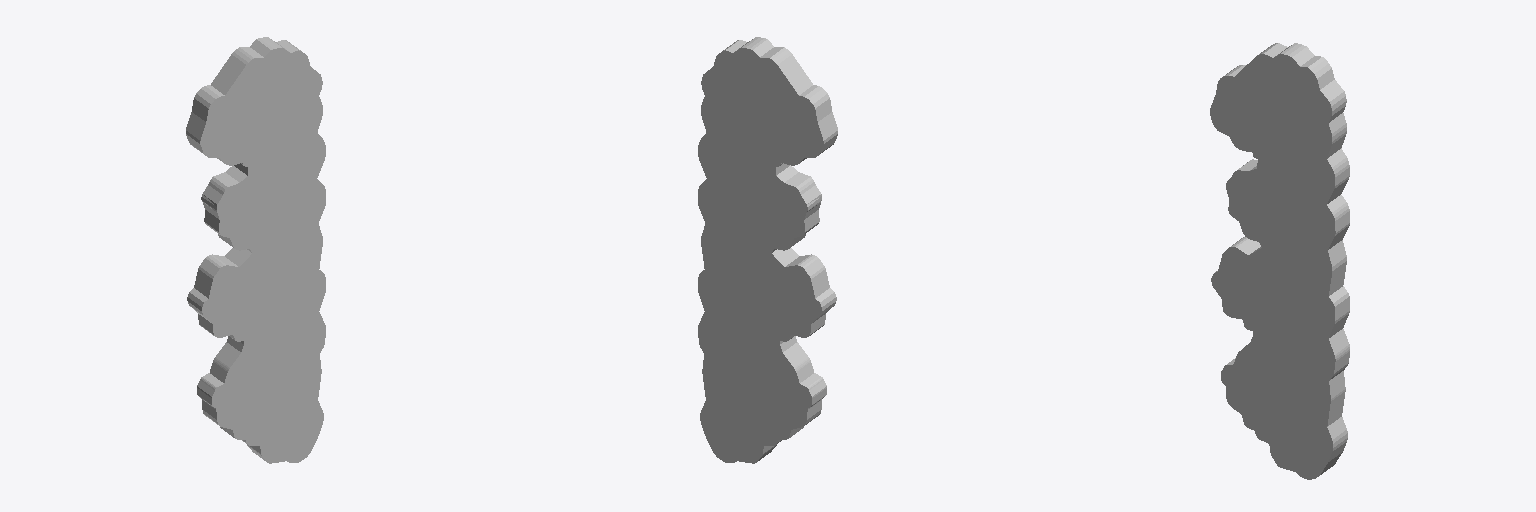
Rendered from SOG_Cloud_Port.obj.
The picture shows the model from 3 angles: view 1: azimuth 30°, elevation 25°; view 2: azimuth 150°, elevation 25°; view 3: azimuth 330°, elevation 25°; orthographic projection.
Visible parts, largest first — view 1: Object; view 2: Object; view 3: Object.
Boxes of the visible parts, x1,y1,x2,y2 form: Object: [186, 37, 325, 463]; Object: [698, 37, 837, 463]; Object: [1210, 43, 1349, 479].
Bounding box in the file's own units: 22.26 × 70.83 × 4.52.